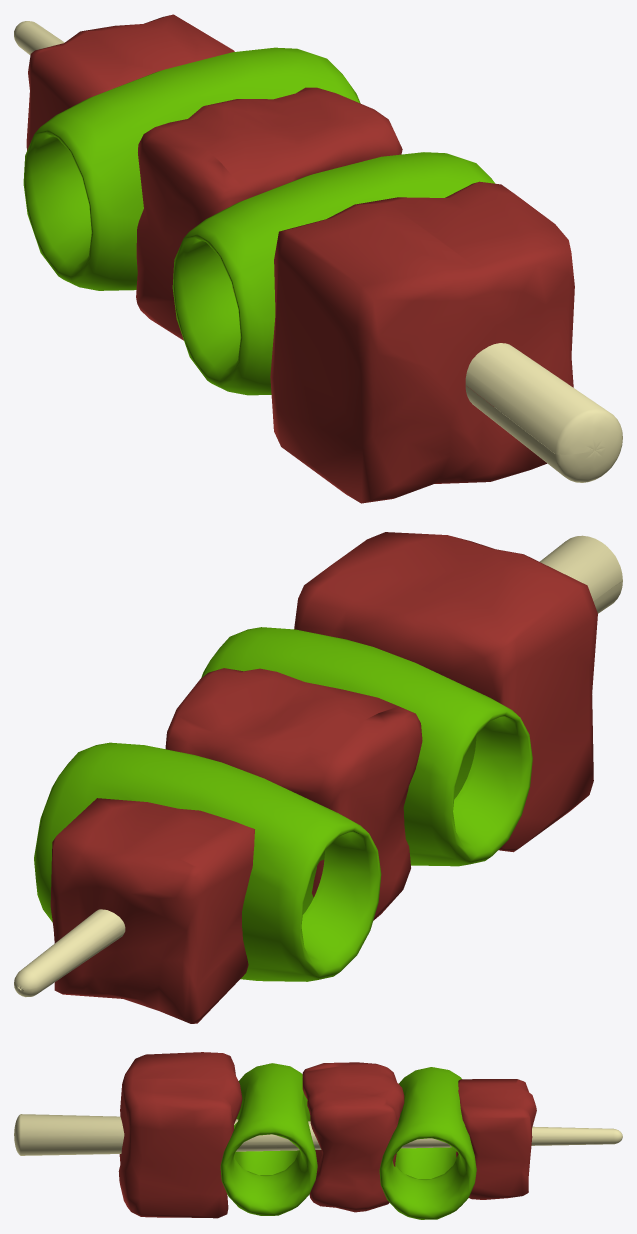
File: Food (15).fbx
The picture shows the model from 3 angles, top to bottom: view 1: azimuth 30°, elevation 25°; view 2: azimuth 150°, elevation 25°; view 3: azimuth 270°, elevation 25°; orthographic projection. The views are drawn at different scales.
Visible parts, largest first — view 1: Cube.013; view 2: Cube.013; view 3: Cube.013.
Part boxes in pixels (x1,y1,x2,y2): Cube.013: (14,14,622,503); Cube.013: (14,532,622,1023); Cube.013: (14,1052,622,1219).
Size of the model in its own units: 6.47 by 5.15 by 23.41.
